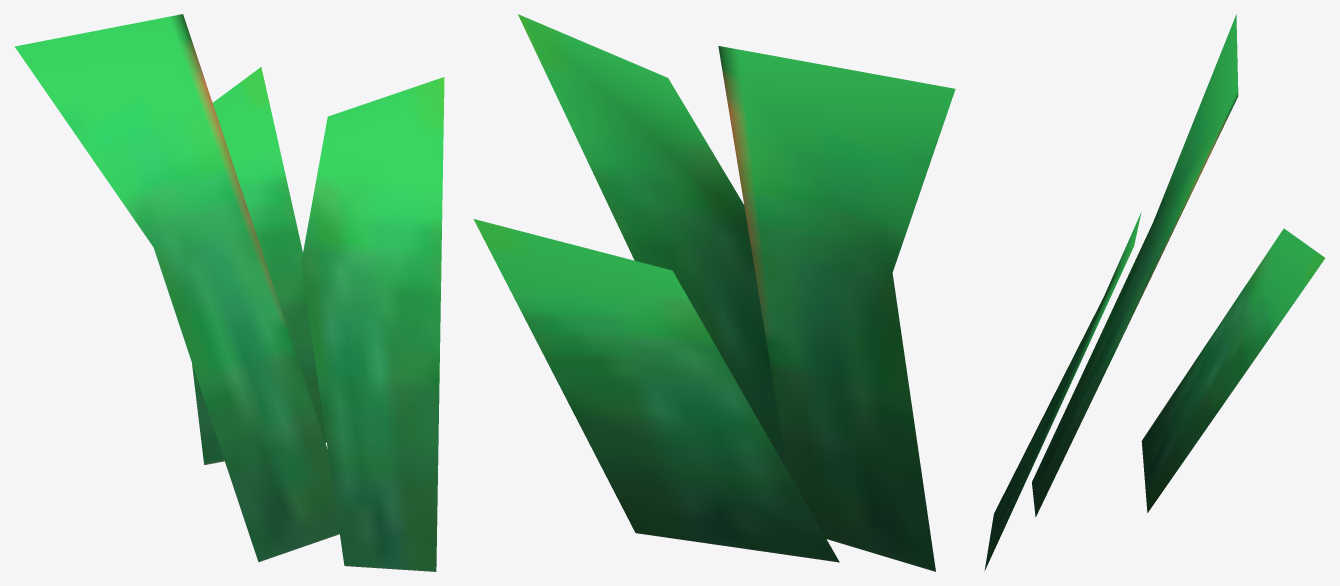
The model's file is fg_grassD.dae.
3 views of the same model, side by side, from view 1: azimuth 30°, elevation 25°; view 2: azimuth 150°, elevation 25°; view 3: azimuth 270°, elevation 25° (orthographic). The views are drawn at different scales.
Visible parts, largest first — view 1: fg_grassD; view 2: fg_grassD; view 3: fg_grassD.
Part boxes in pixels (x1=…): fg_grassD: x1=14, y1=14, x2=444, y2=571; fg_grassD: x1=473, y1=14, x2=955, y2=571; fg_grassD: x1=984, y1=14, x2=1325, y2=570.
Bounding box in the file's own units: 14.73 × 18.52 × 13.13.
1 material, 1 textured.
